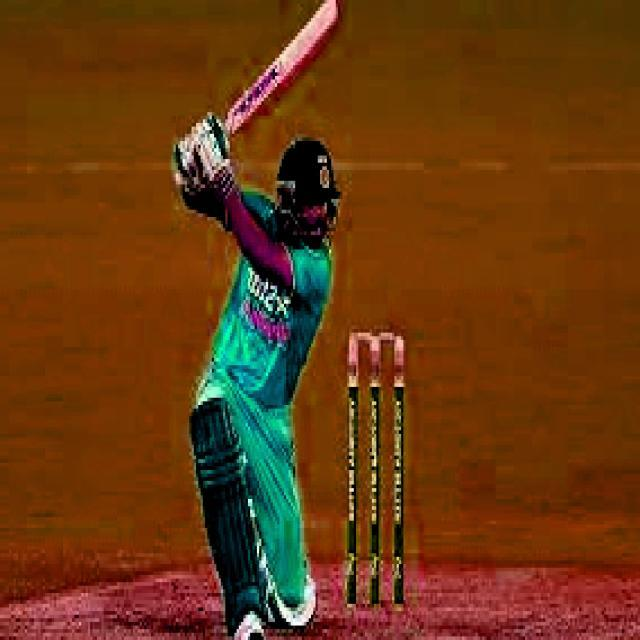bat: (232, 0, 346, 148)
